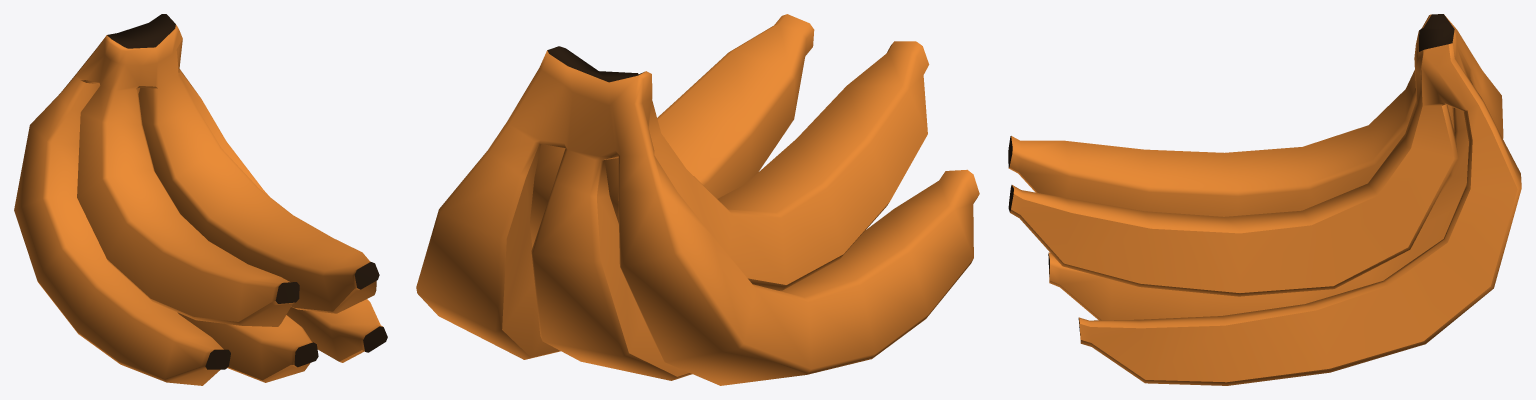
The model's file is Bananas.FBX.
3 renders of one model, left to right at view 1: azimuth 30°, elevation 25°; view 2: azimuth 150°, elevation 25°; view 3: azimuth 270°, elevation 25°, orthographic. The views are drawn at different scales.
Visible parts, largest first — view 1: Plane005; view 2: Plane005; view 3: Plane005.
Boxes of the visible parts, left/top/right/bottom form: Plane005: left=14, top=14, right=387, bottom=385; Plane005: left=416, top=14, right=979, bottom=385; Plane005: left=1008, top=14, right=1521, bottom=385.
Size of the model in its own units: 21.94 by 21.85 by 32.79.
